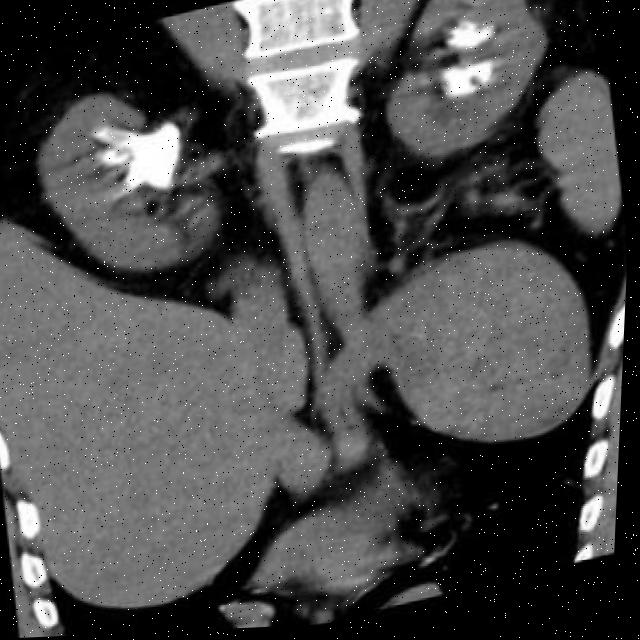Tas_Var: (76, 104, 195, 215), (431, 56, 501, 113), (435, 15, 505, 64), (96, 148, 120, 172), (108, 150, 135, 169)
